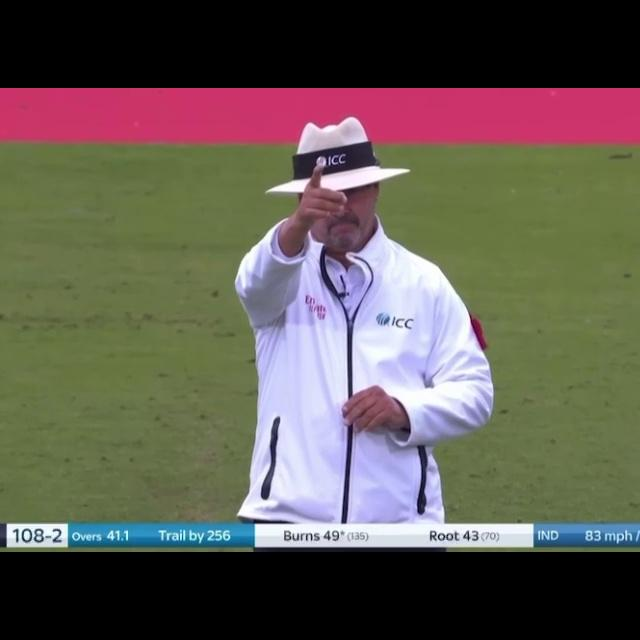umpire: (219, 99, 502, 525)
